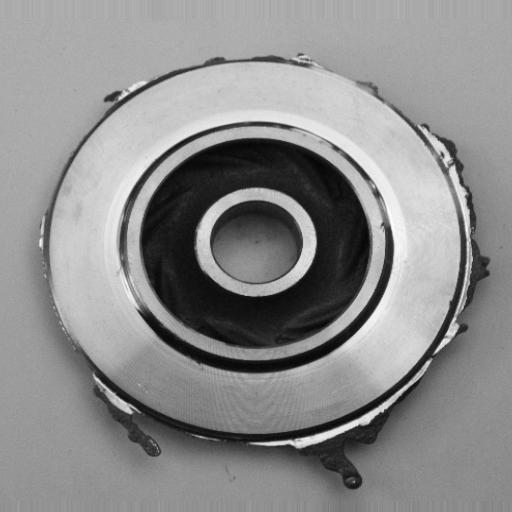casting_with_burr: (32, 50, 492, 500)
scratch: (112, 228, 152, 335), (369, 169, 410, 260), (280, 115, 347, 160)
